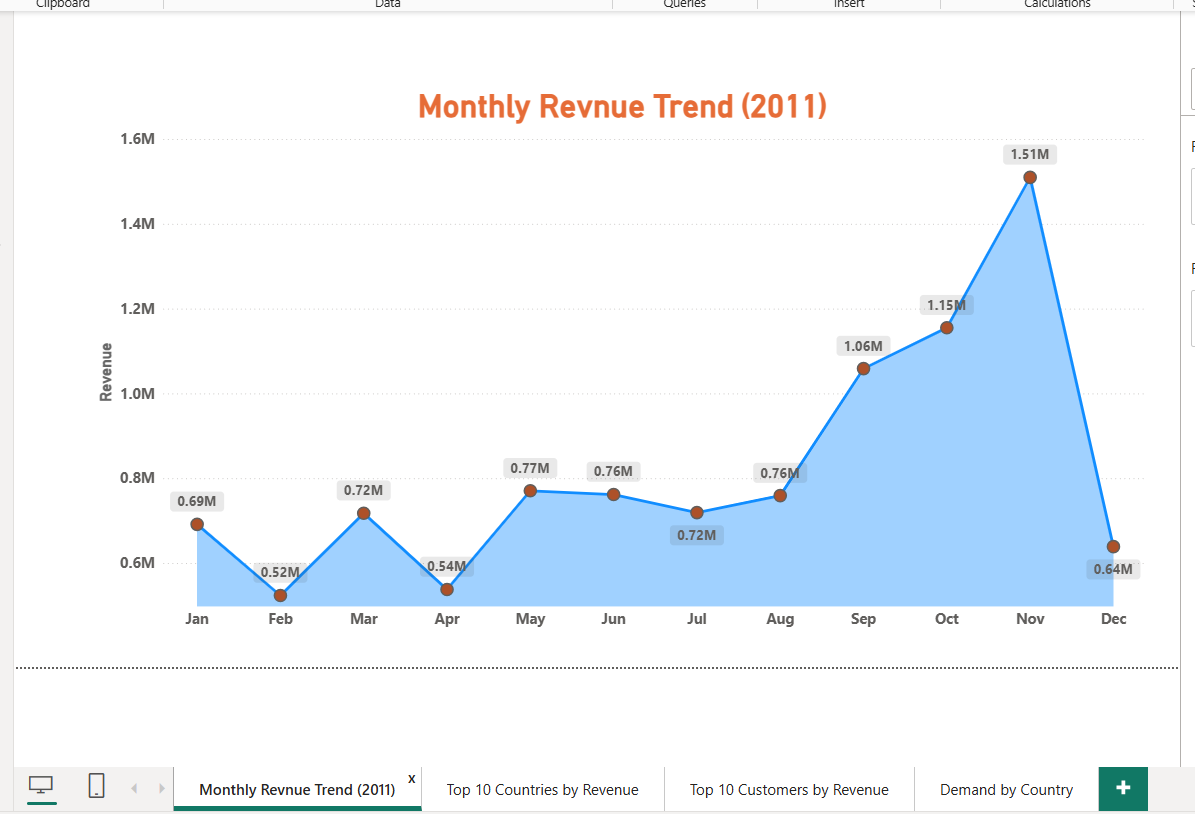

The dashboard page shown, as its layout file describes it:
{"tool":"powerbi","page":{"name":"Monthly Revnue Trend (2011)","canvas":[1280,720],"ordinal":0},"visuals":[{"type":"lineChart","title":"Monthly Revnue Trend (2011)","fields":{"Category":["Online Retail.Month"],"Y":["Sum(Online Retail.Revenue)"]},"box":[86.4,83.7,1162.3,605.1],"z":0}]}

Visuals, with their boxes on the page's 1280x720 design canvas (x1, y1, x2, y2). These are canvas units, not pixel positions in the 1195x814 screenshot, which may show the page scaled, cropped or inside an application window:
"Monthly Revnue Trend (2011)" lineChart: pyautogui.locateOnScreen(86, 84, 1249, 689)
